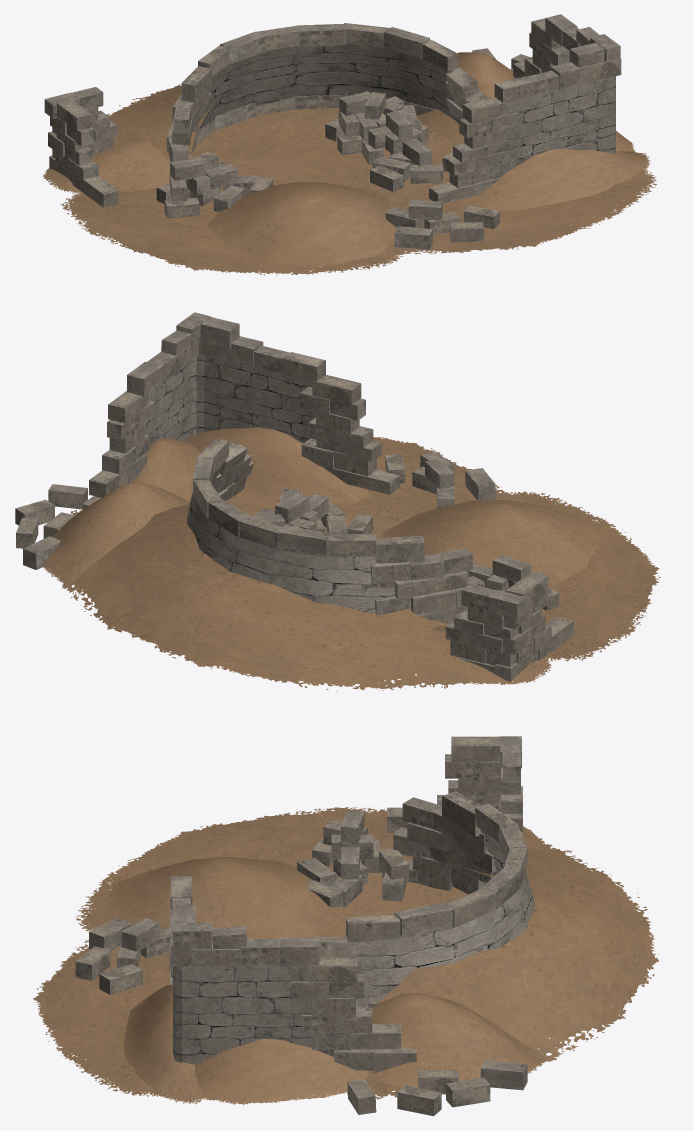
Rendered from Limestone_Burner_Construction_Stage_2.fbx.
3 views of the same model, one above another, from view 1: azimuth 30°, elevation 25°; view 2: azimuth 150°, elevation 25°; view 3: azimuth 270°, elevation 25° (orthographic). The views are drawn at different scales.
Parts seen in each view (by area): view 1: Limestone_Burner_Construction_S2; view 2: Limestone_Burner_Construction_S2; view 3: Limestone_Burner_Construction_S2.
Boxes of the visible parts, box(x1,y1,x2,y2) form: Limestone_Burner_Construction_S2: box(42, 14, 656, 275); Limestone_Burner_Construction_S2: box(15, 312, 660, 691); Limestone_Burner_Construction_S2: box(33, 736, 658, 1116).
Bounding box in the file's own units: 573 × 134 × 507.
